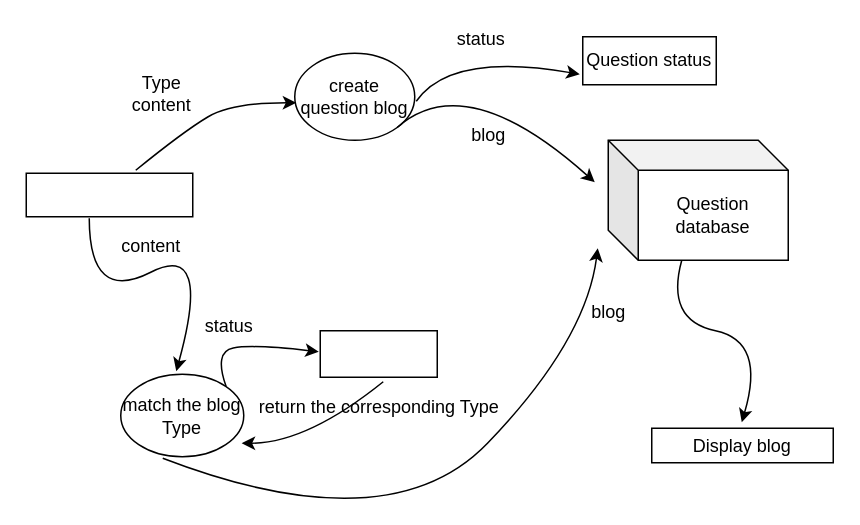
Some shapes in this 860 by 525 pixel diagram are drawn without their labels. Each missing label, with the centre of its shape:
"Answer status" belongs at (378,353).
"User Input" belongs at (109,194).
